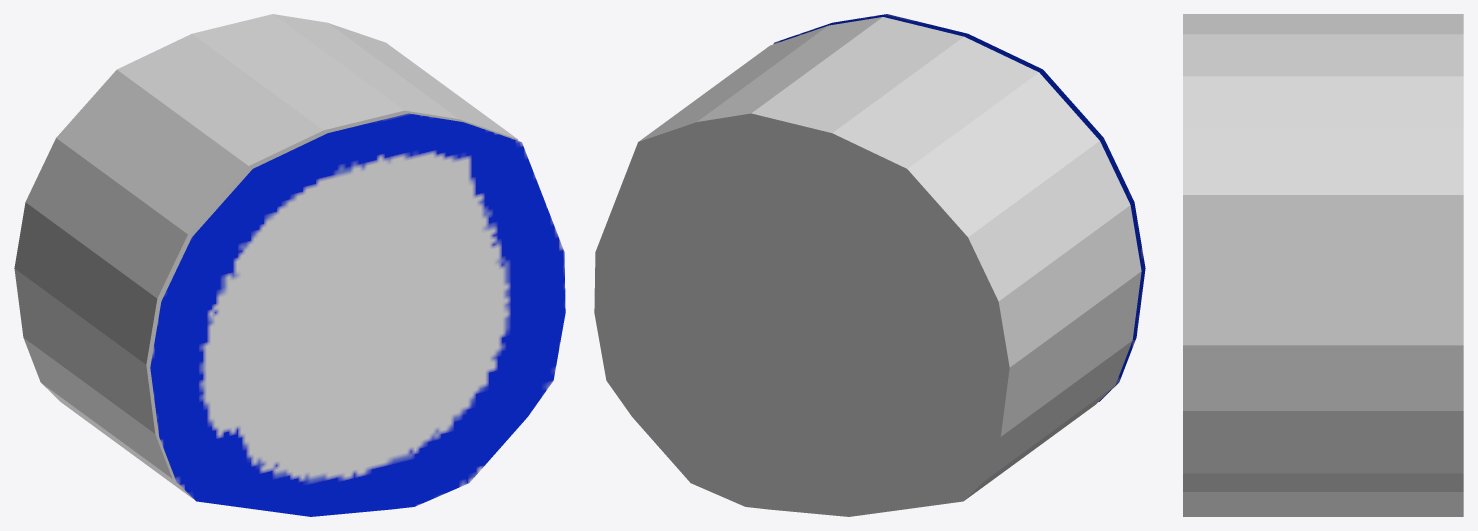
The picture shows the model from 3 angles, left to right: view 1: azimuth 30°, elevation 25°; view 2: azimuth 150°, elevation 25°; view 3: azimuth 270°, elevation 25°; orthographic projection. The views are drawn at different scales.
Parts seen in each view (by area): view 1: In_10_1, In_10_0; view 2: In_10_0, In_10_1; view 3: In_10_0.
Boxes of the visible parts, x1=… form: In_10_1: x1=150, y1=113, x2=565, y2=516; In_10_0: x1=14, y1=14, x2=518, y2=498; In_10_0: x1=594, y1=17, x2=1141, y2=516; In_10_1: x1=773, y1=14, x2=1145, y2=401; In_10_0: x1=1183, y1=14, x2=1463, y2=516.
Bounding box in the file's own units: 0.9088 × 0.8258 × 0.515.
Materials: 2 (1 with a texture image).
